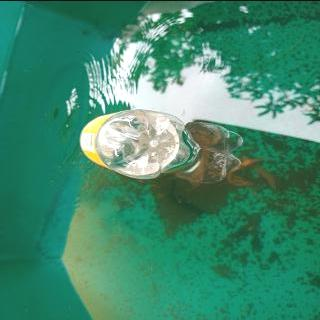bottle: (76, 108, 201, 180)
